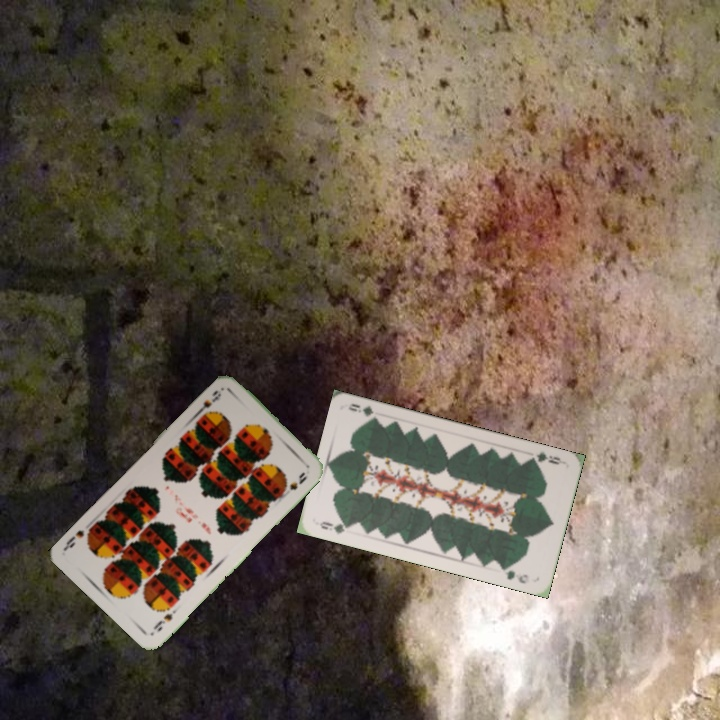G9: (525, 447, 567, 467), (315, 517, 354, 537)
S9: (192, 386, 224, 418), (149, 609, 175, 634)
